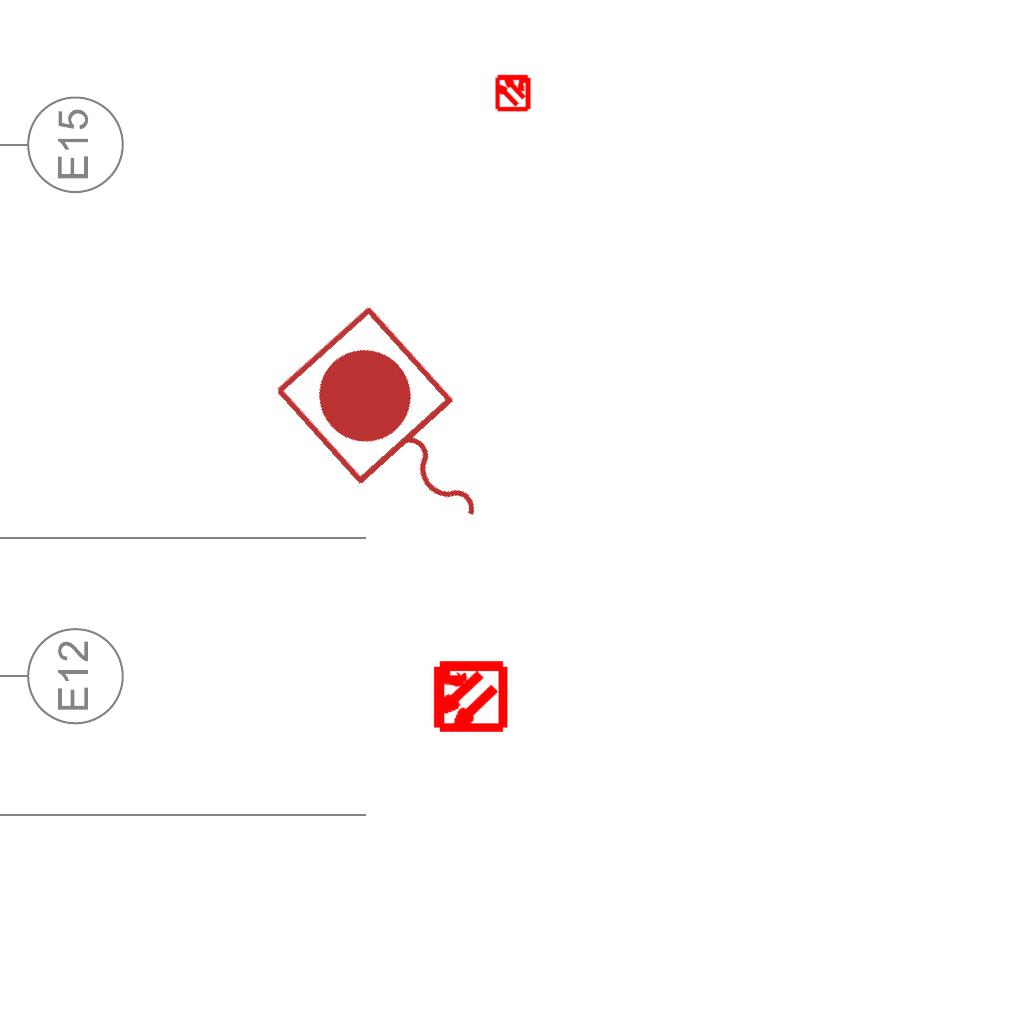OT_Multisensormelder_(Kombination_RMO_WMD): (412, 640, 525, 753), (485, 64, 541, 120)
Zugtaster: (261, 295, 533, 573)
